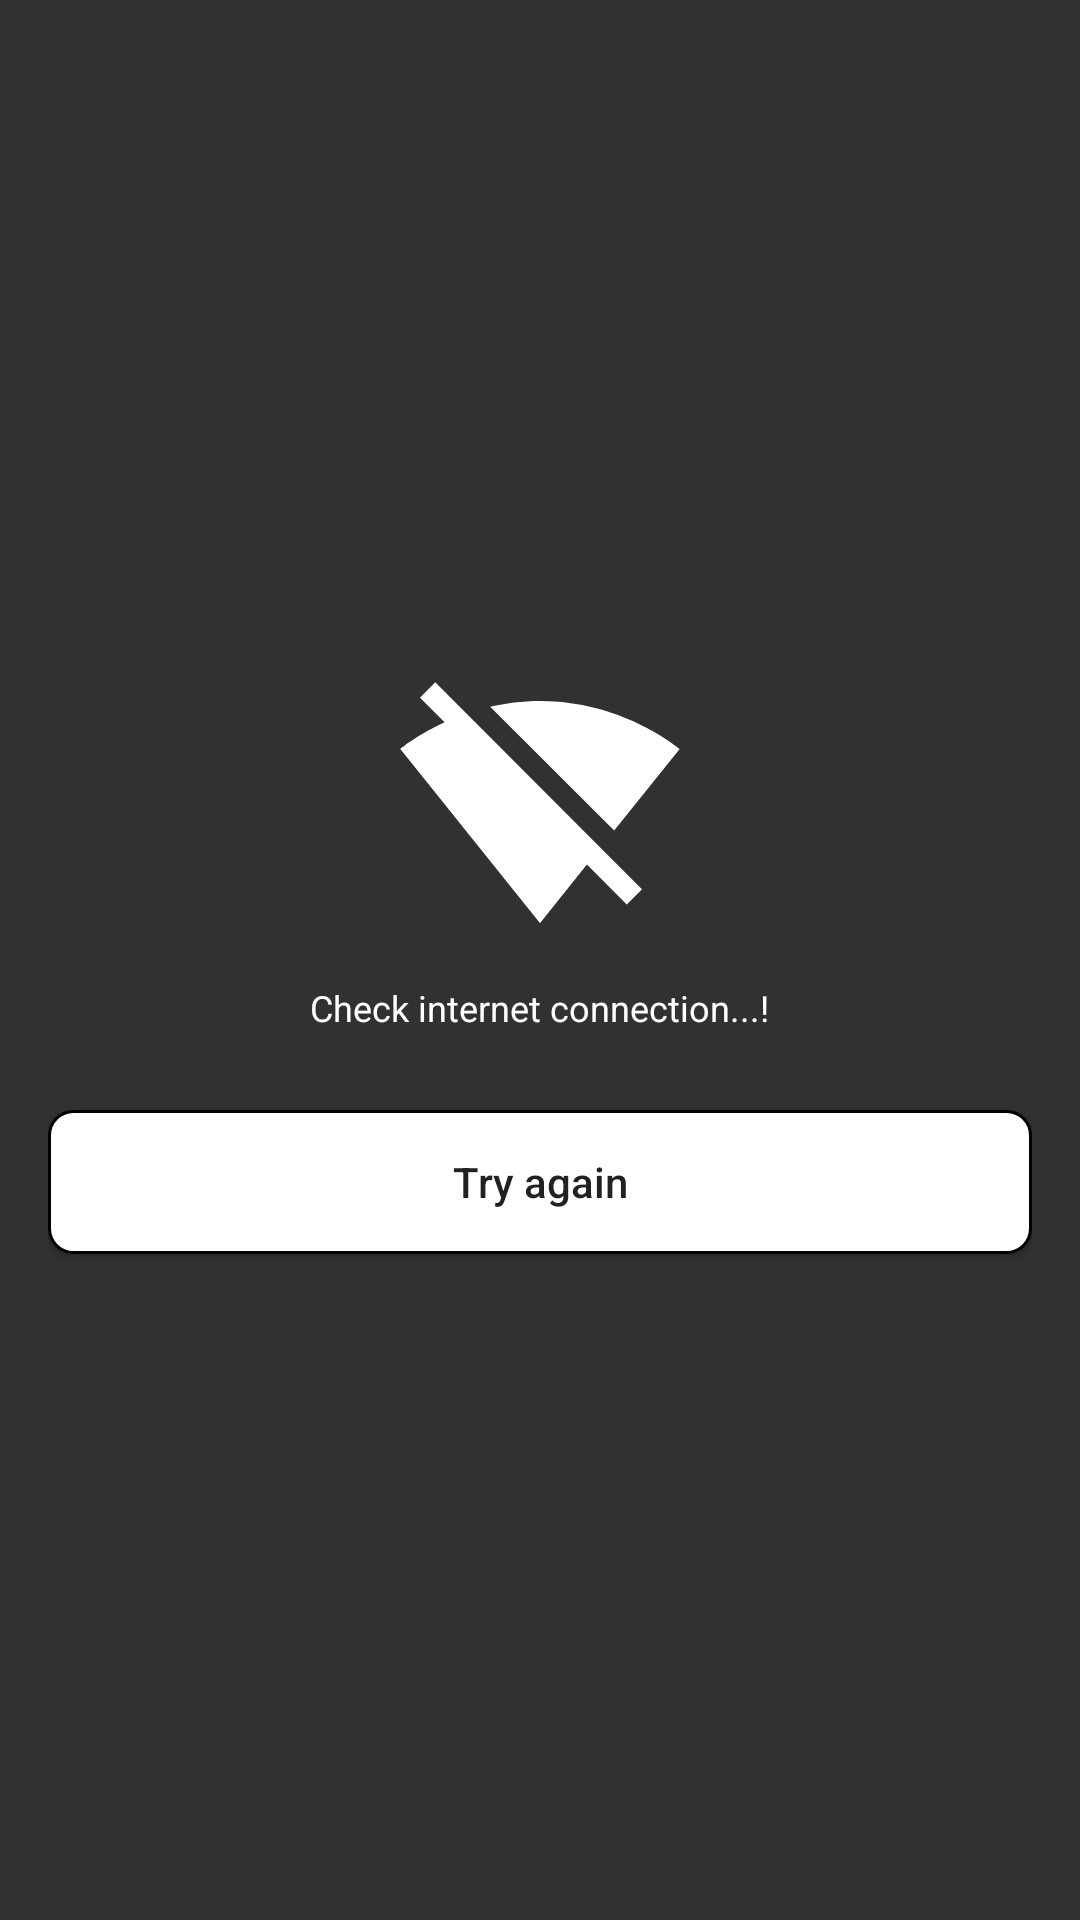

Icons on this 1080 × 1920 Android screen, each with its box as bbox=(x1, y1, x2, y2):
signal wifi off: bbox=(400, 682, 680, 923)
